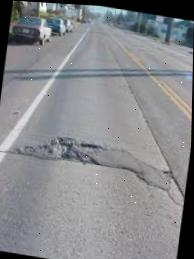spalling: (56, 136, 106, 165)
